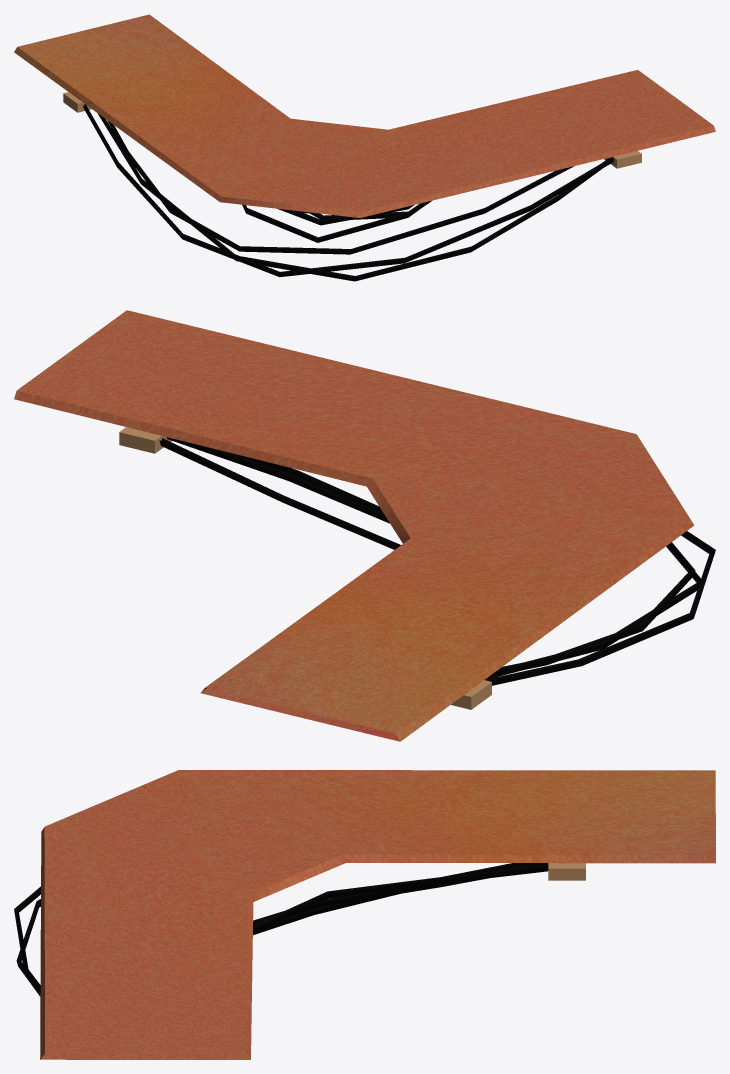
Rendered from MemeFactory_BridgeCorner_Art.fbx.
3 renders of one model, top to bottom at view 1: azimuth 30°, elevation 25°; view 2: azimuth 150°, elevation 25°; view 3: azimuth 270°, elevation 25°, orthographic. The views are drawn at different scales.
Parts seen in each view (by area): view 1: MemeFactory_BridgeCorner_Art; view 2: MemeFactory_BridgeCorner_Art; view 3: MemeFactory_BridgeCorner_Art.
Part boxes in pixels (x1=…): MemeFactory_BridgeCorner_Art: x1=14, y1=14, x2=715, y2=281; MemeFactory_BridgeCorner_Art: x1=14, y1=310, x2=715, y2=741; MemeFactory_BridgeCorner_Art: x1=14, y1=770, x2=715, y2=1059.
Size of the model in its own units: 694 by 118 by 692.
